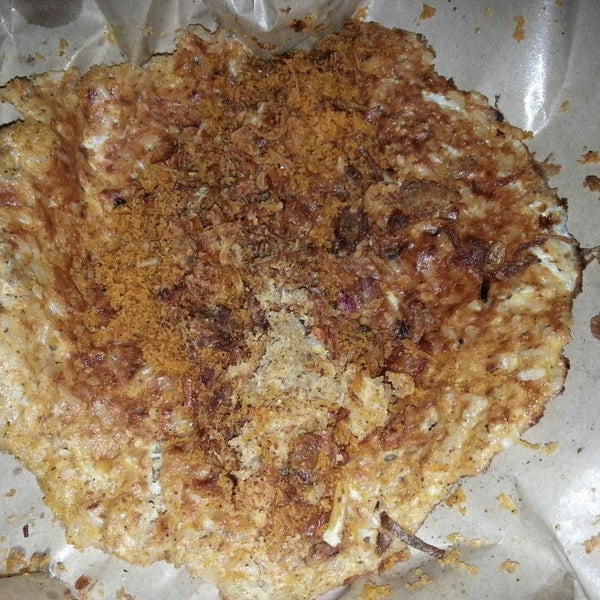kerak_telor: (3, 38, 572, 594)
